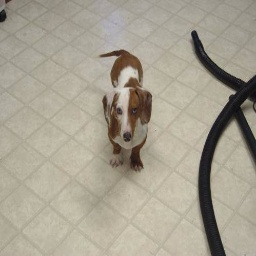dog: (99, 50, 155, 175)
